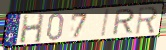0: (45, 12, 65, 42)
7: (71, 11, 89, 39)
H: (19, 12, 45, 44)
I: (100, 8, 111, 38)
R: (111, 8, 137, 37), (134, 6, 159, 36)
